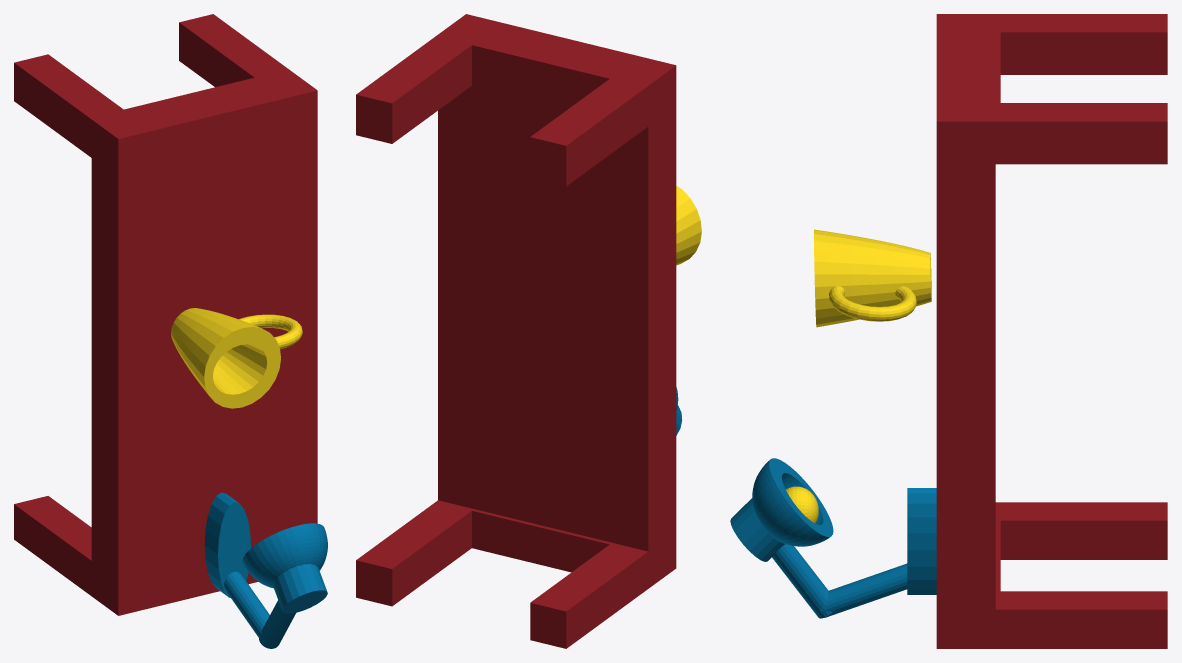
Rendered from tinker.obj.
3 renders of one model, left to right at view 1: azimuth 30°, elevation 25°; view 2: azimuth 150°, elevation 25°; view 3: azimuth 270°, elevation 25°, orthographic. The views are drawn at different scales.
Parts seen in each view (by area): view 1: group_0_9771553, group_0_30377, group_0_16768282; view 2: group_0_9771553, group_0_16768282; view 3: group_0_9771553, group_0_30377, group_0_16768282.
Boxes of the visible parts, box(x1,y1,x2,y2) form: group_0_9771553: box(14, 14, 317, 615); group_0_30377: box(204, 492, 327, 648); group_0_16768282: box(171, 308, 302, 408); group_0_9771553: box(356, 14, 676, 648); group_0_16768282: box(676, 185, 701, 265); group_0_9771553: box(936, 14, 1167, 648); group_0_30377: box(730, 458, 936, 618); group_0_16768282: box(786, 229, 931, 523).
Size of the model in its own units: 51.8 by 123 by 89.
